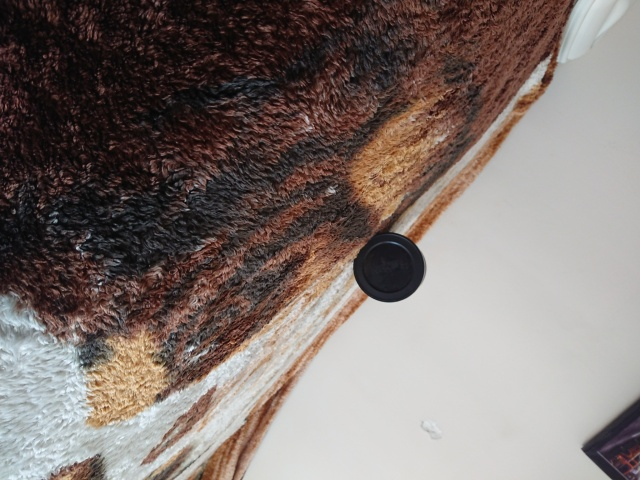Nescafe Classic 225g: (350, 230, 430, 306)
